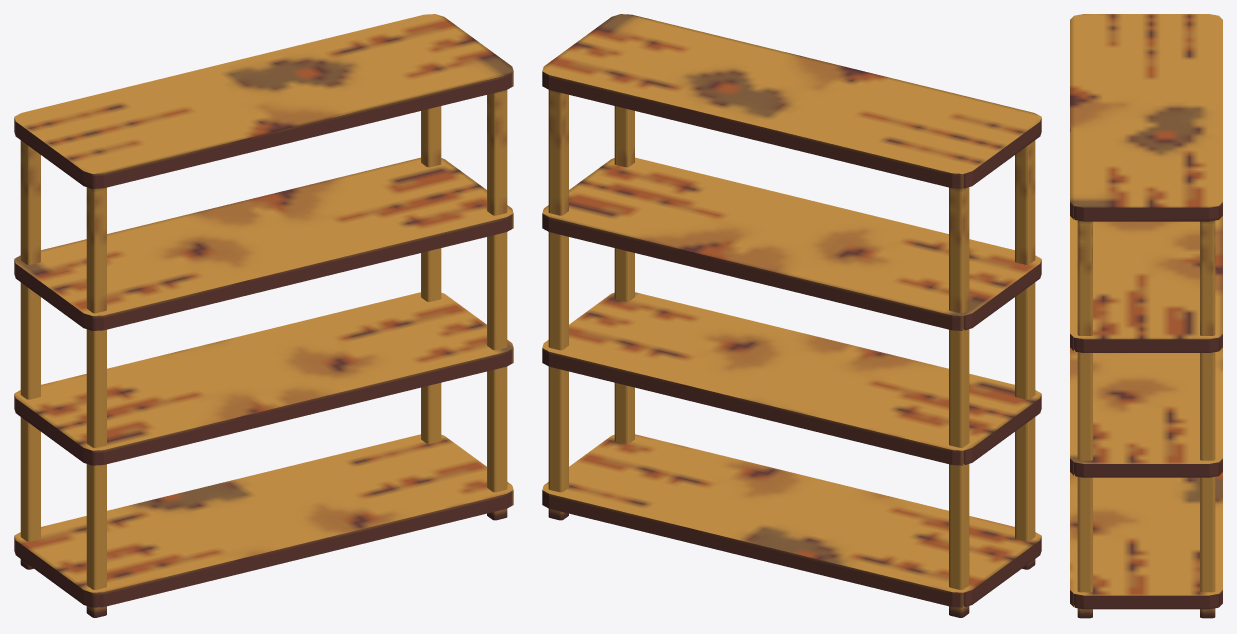
The model's file is tiered_organizer.fbx.
The picture shows the model from 3 angles, left to right: view 1: azimuth 30°, elevation 25°; view 2: azimuth 150°, elevation 25°; view 3: azimuth 270°, elevation 25°; orthographic projection. The views are drawn at different scales.
Visible parts, largest first — view 1: Cube.033, Cube.030, Cube.031, Cube.032, Cube.034; view 2: Cube.033, Cube.030, Cube.031, Cube.032, Cube.034; view 3: Cube.033, Cube.030, Cube.032, Cube.031, Cube.034.
Part boxes in pixels (left/top/right/bottom): Cube.033: left=14, top=14, right=513, bottom=188; Cube.030: left=14, top=434, right=513, bottom=607; Cube.031: left=14, top=292, right=513, bottom=465; Cube.032: left=14, top=157, right=513, bottom=330; Cube.034: left=20, top=90, right=507, bottom=617; Cube.033: left=542, top=14, right=1041, bottom=188; Cube.030: left=542, top=434, right=1041, bottom=607; Cube.031: left=542, top=292, right=1041, bottom=465; Cube.032: left=542, top=157, right=1041, bottom=330; Cube.034: left=548, top=90, right=1035, bottom=617; Cube.033: left=1070, top=14, right=1222, bottom=221; Cube.030: left=1070, top=472, right=1222, bottom=609; Cube.032: left=1070, top=216, right=1222, bottom=352; Cube.031: left=1070, top=347, right=1222, bottom=477; Cube.034: left=1077, top=220, right=1215, bottom=618.
Size of the model in its own units: 300 by 300 by 100.
